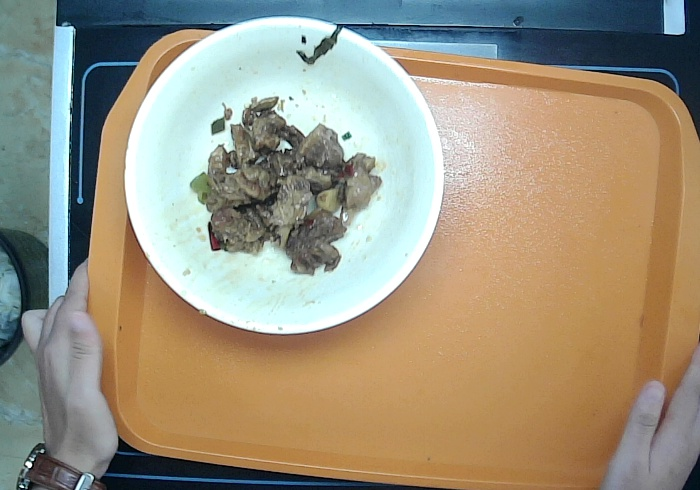ZNLD-Da_Tang_Wan: (118, 4, 457, 352)
